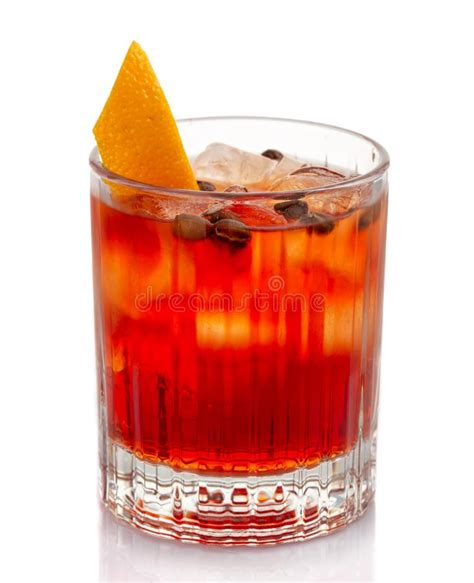alcohol: (86, 41, 391, 552)
